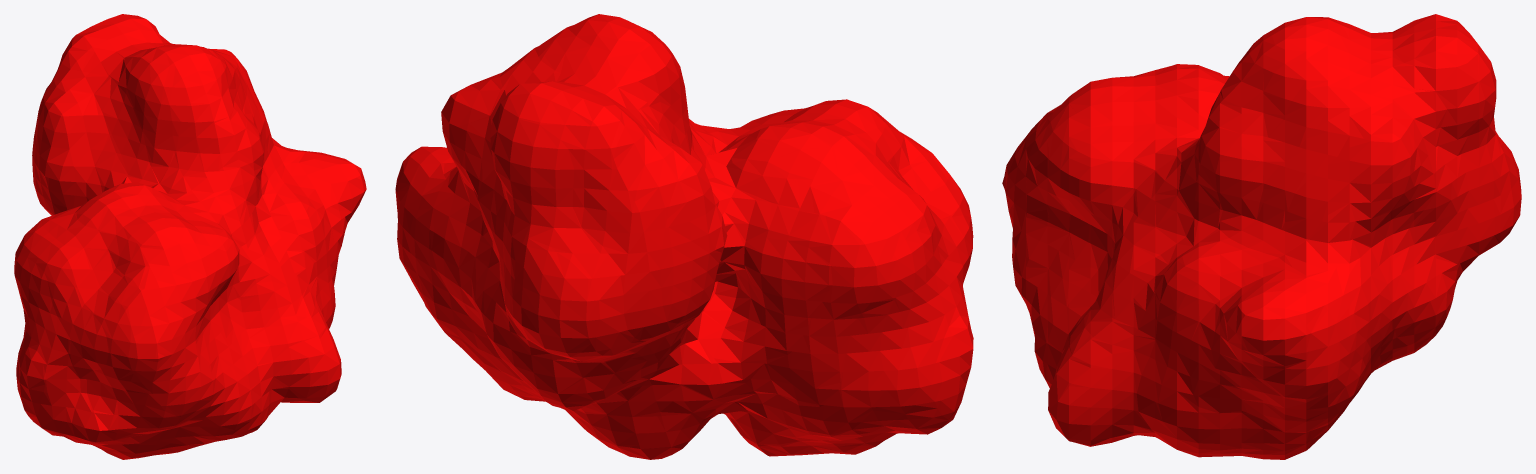
The model's file is glk_coarse.dae.
3 views of the same model, side by side, from view 1: azimuth 30°, elevation 25°; view 2: azimuth 150°, elevation 25°; view 3: azimuth 270°, elevation 25° (orthographic). The views are drawn at different scales.
Parts seen in each view (by area): view 1: glk; view 2: glk; view 3: glk.
Boxes of the visible parts, bbox=[...] form: glk: bbox=[14, 14, 366, 459]; glk: bbox=[395, 14, 973, 459]; glk: bbox=[1002, 14, 1521, 459].
Size of the model in its own units: 64.2 by 54.95 by 58.93.
